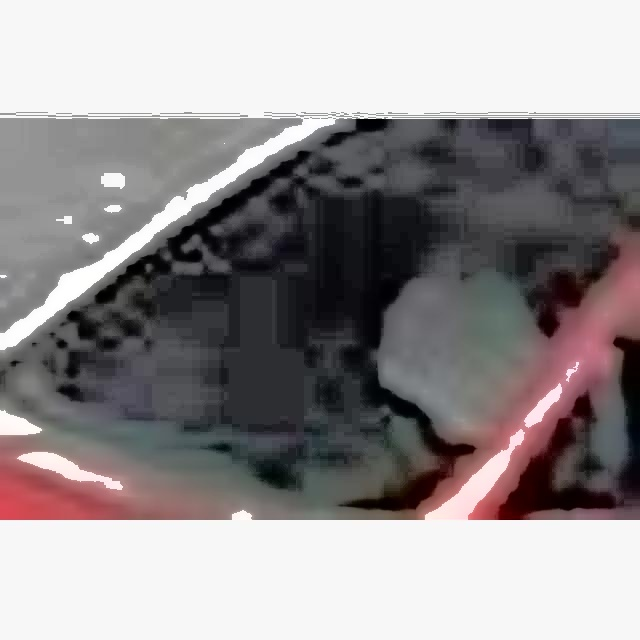tidak-pakai: (334, 243, 535, 453)
